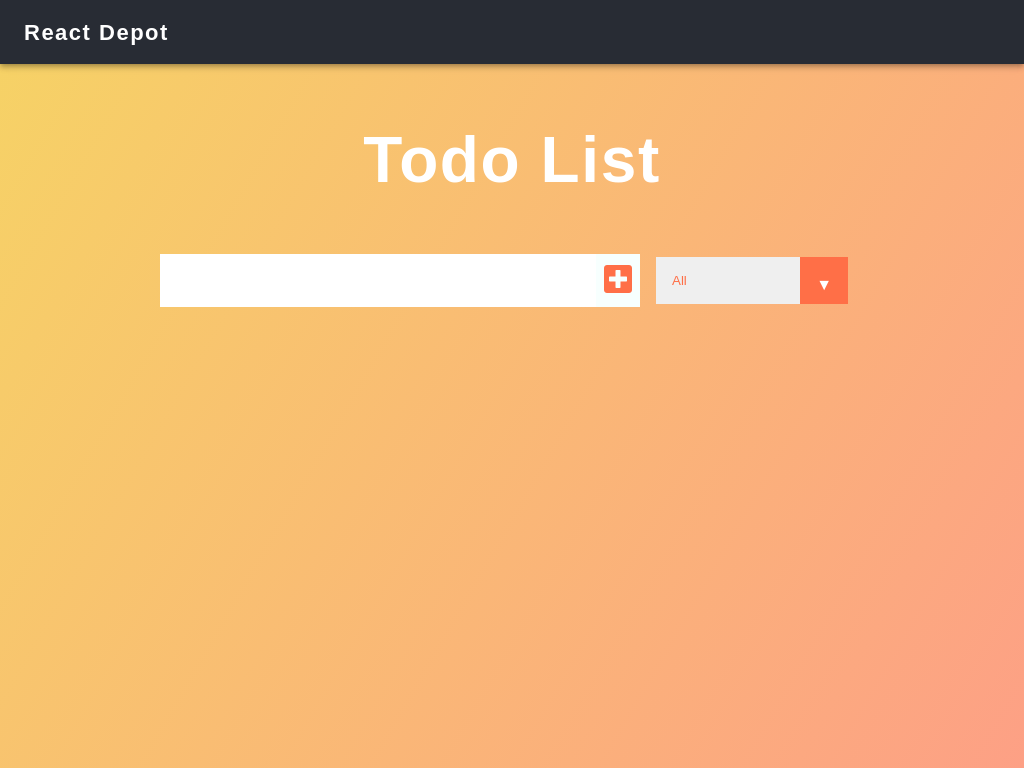
Test: Fifth test suite › should add todos
In the field with test id "form-input": (378, 281) [160,254,596,307], type "Practice coding"
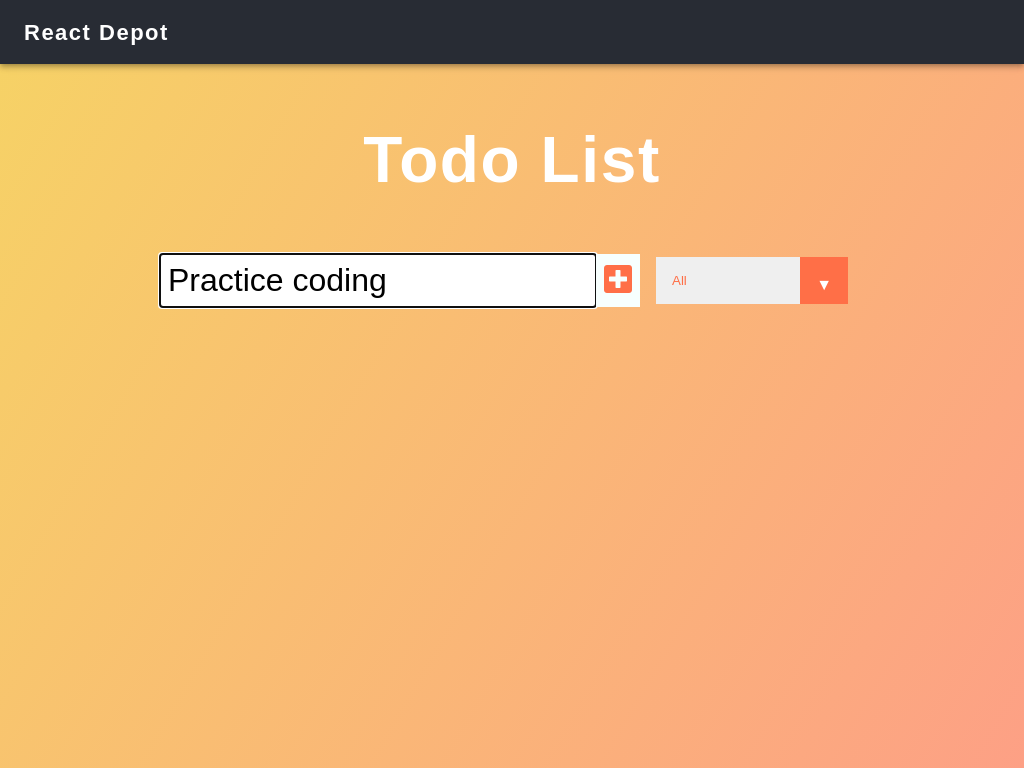
Click the button with test id "todo-btn": (618, 281) [596,254,640,307]
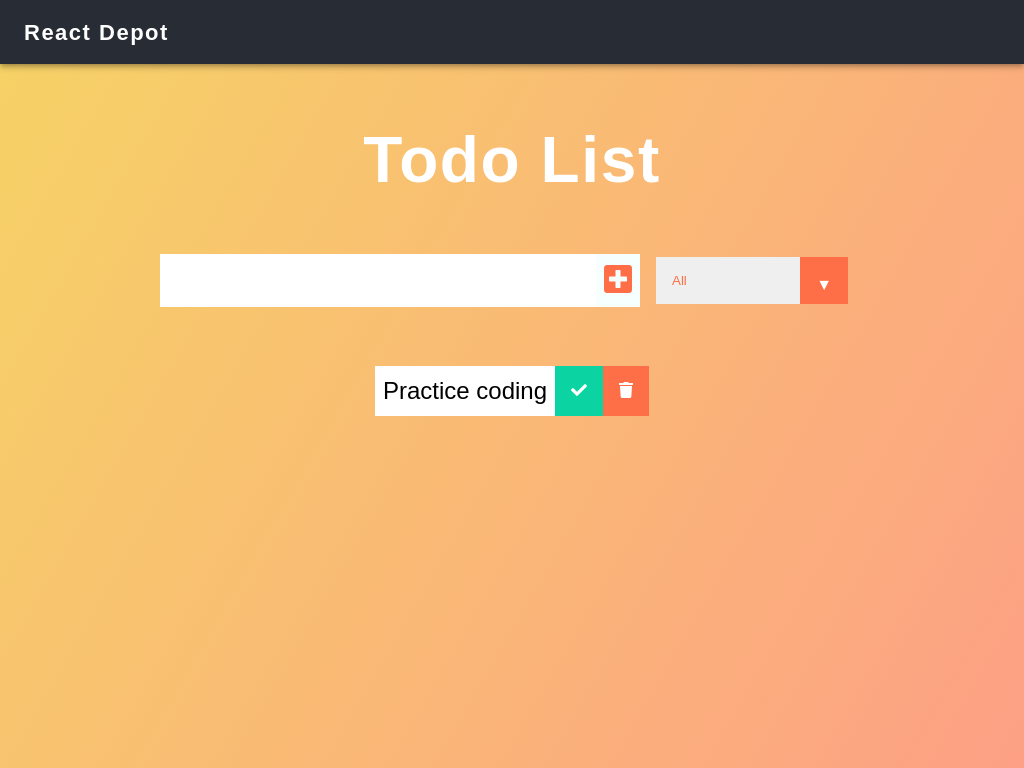
In the field with test id "form-input": (378, 281) [160,254,596,307], type "Go to the store"
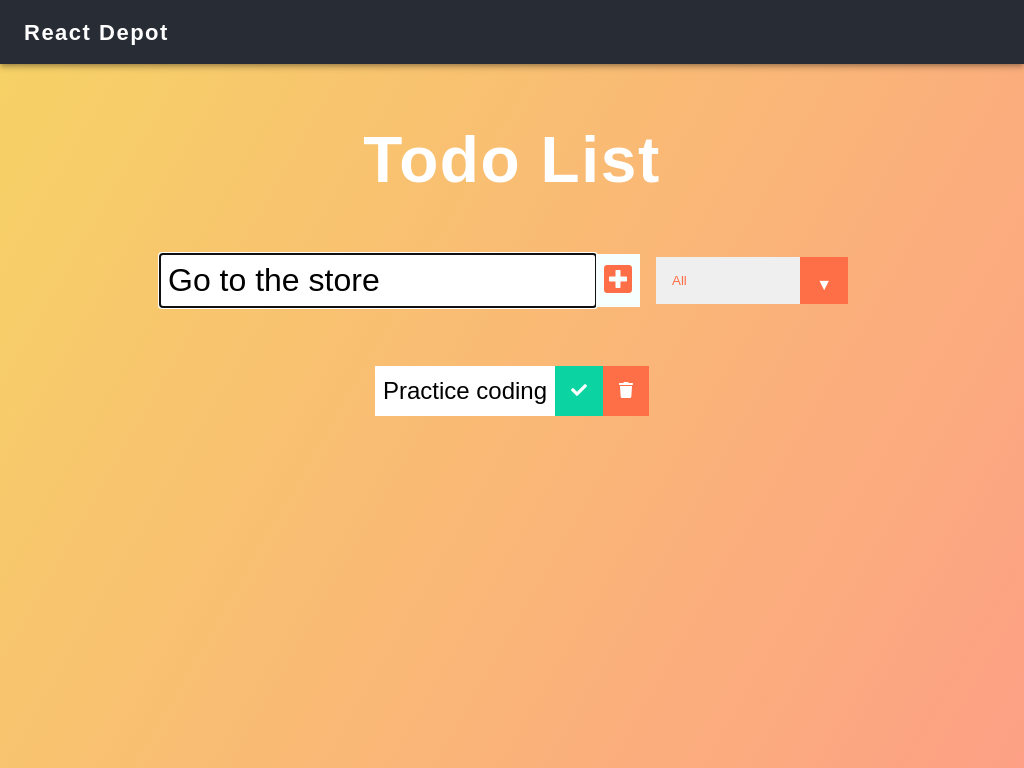
Click the button with test id "todo-btn": (618, 281) [596,254,640,307]
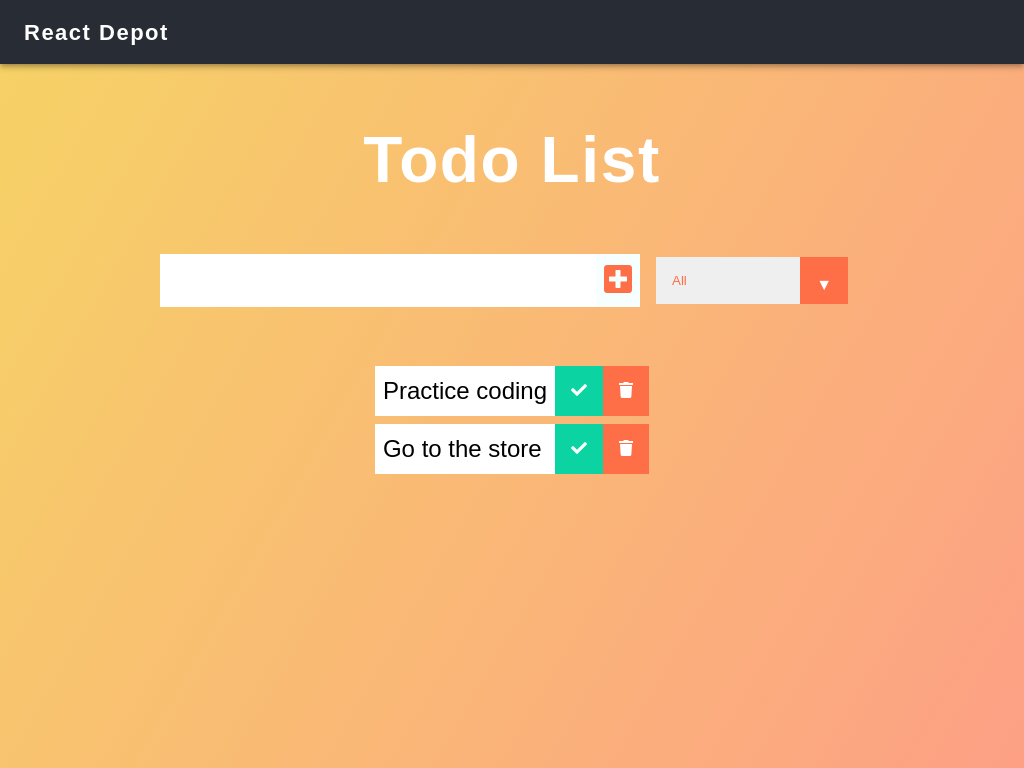
In the field with test id "form-input": (378, 281) [160,254,596,307], type "Take a nap"
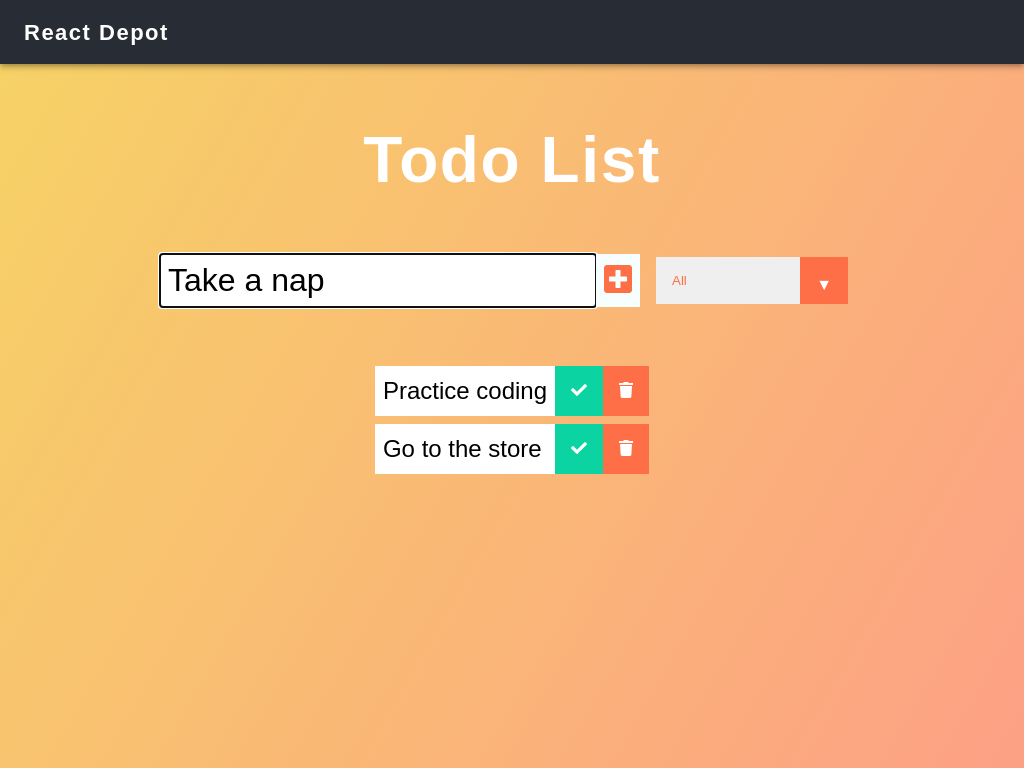
Click the button with test id "todo-btn": (618, 281) [596,254,640,307]
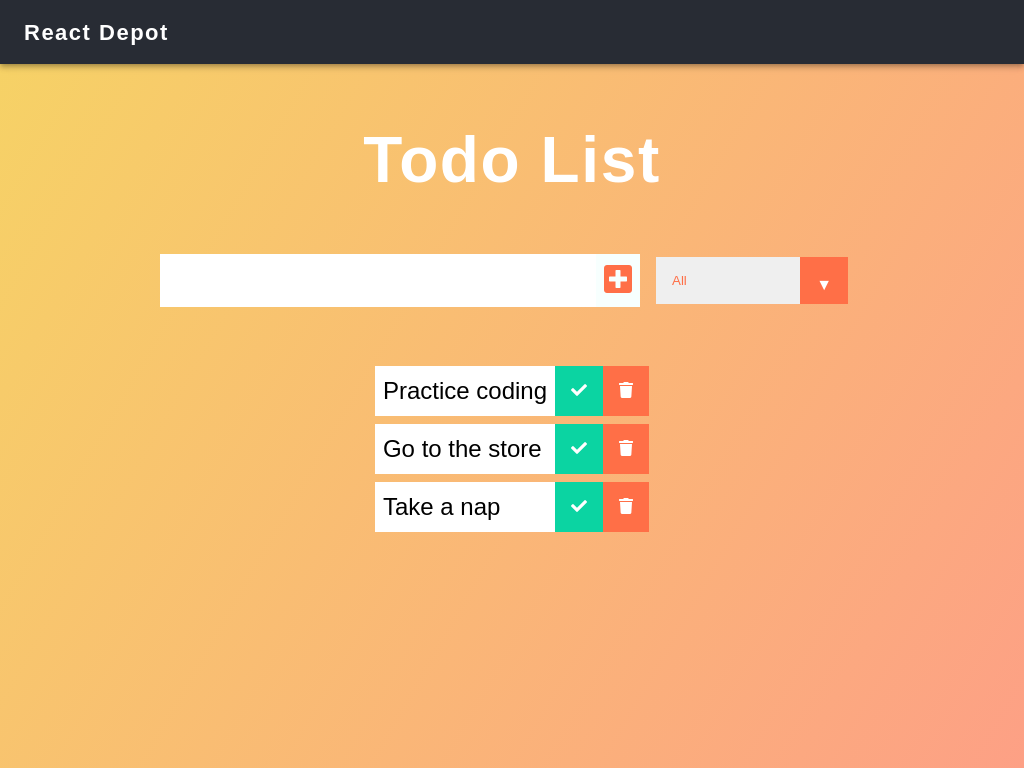
Now the list item with test id "todo-list" reads "Practice coding", box [383,377,547,404]
Now the list item with test id "todo-list" reads "Go to the store", box [383,435,542,462]
Now the list item with test id "todo-list" reads "Take a nap", box [383,493,500,520]
